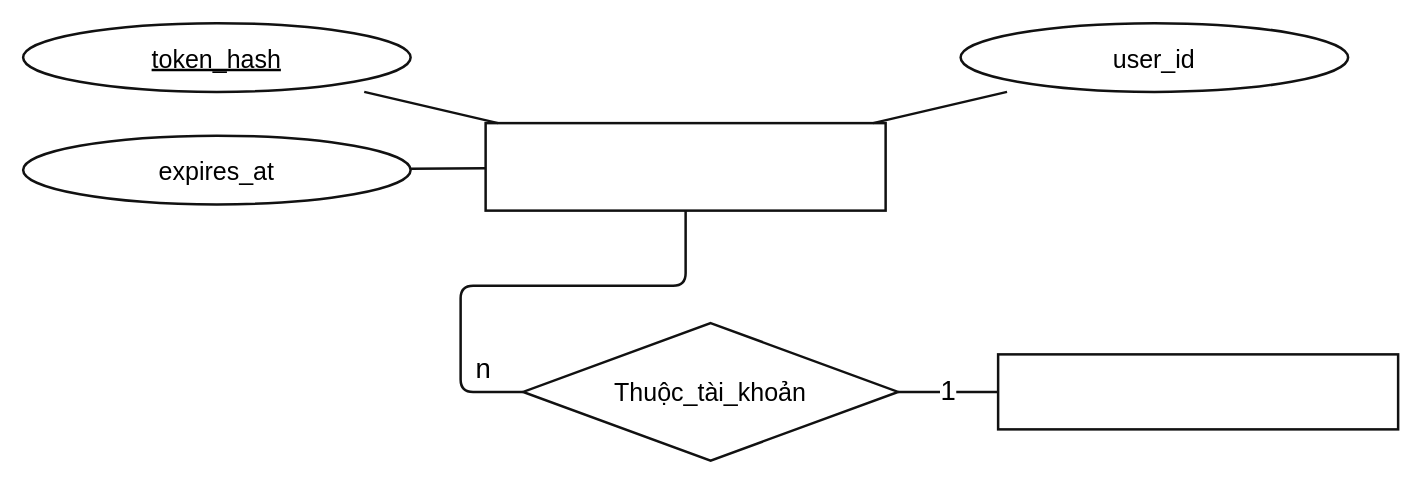
The diagram is 1420 pixels wide and 483 high, and some of its shapes have lost their labels. Here are the shapes that lost their labels. From the top down, the centre of each, then its label:
the point at 685,166: access_session
the point at 1197,391: app_user
